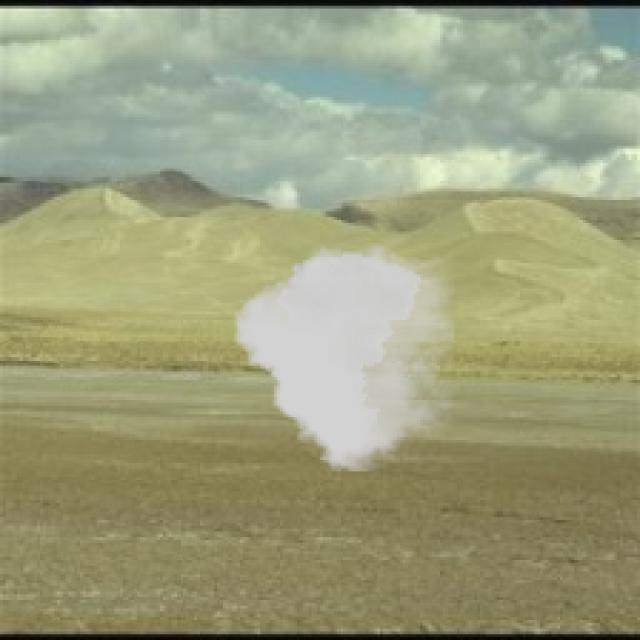Smoke: (235, 243, 454, 471)
